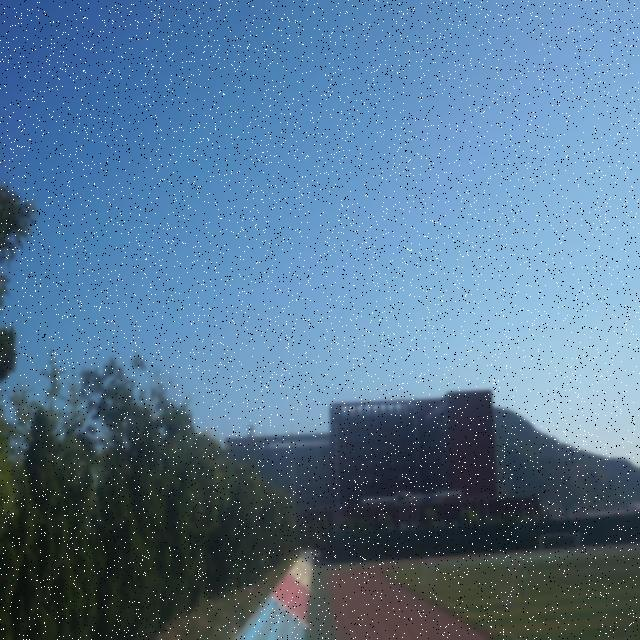UAV: (403, 396, 416, 412)
